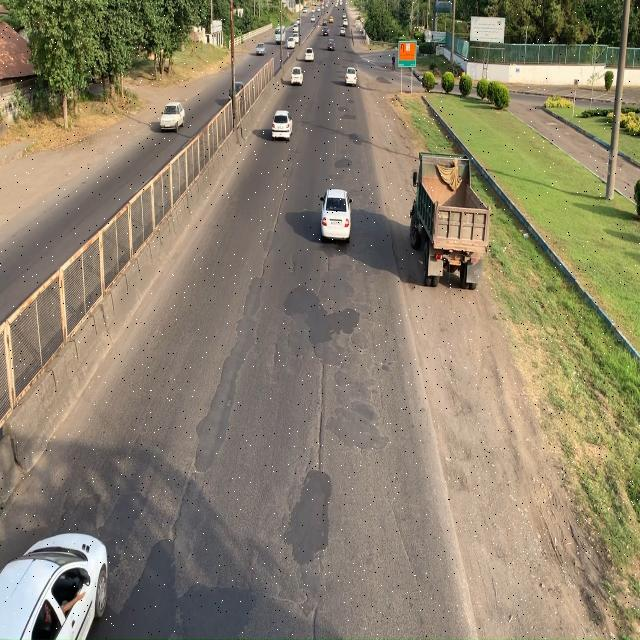Truck: (411, 150, 494, 290)
cars: (0, 531, 108, 640), (319, 184, 352, 245)
